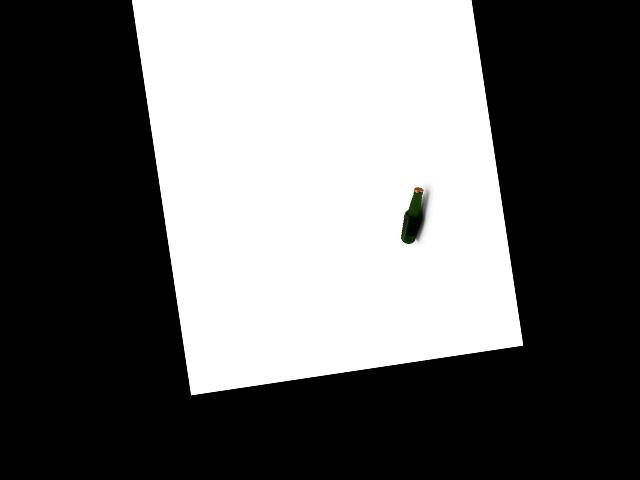beer: (394, 186, 431, 245)
